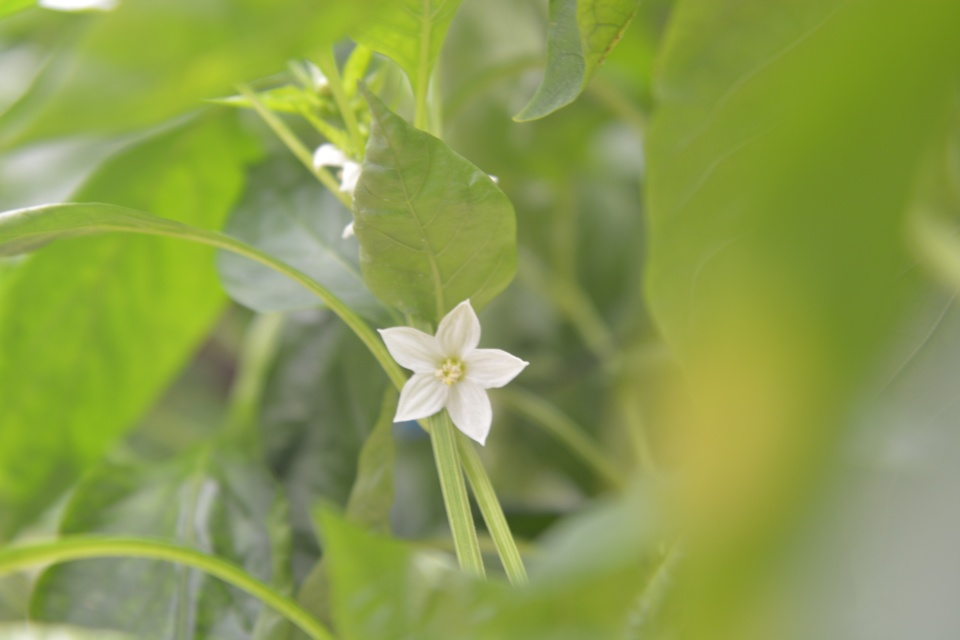flower: (374, 297, 533, 449)
